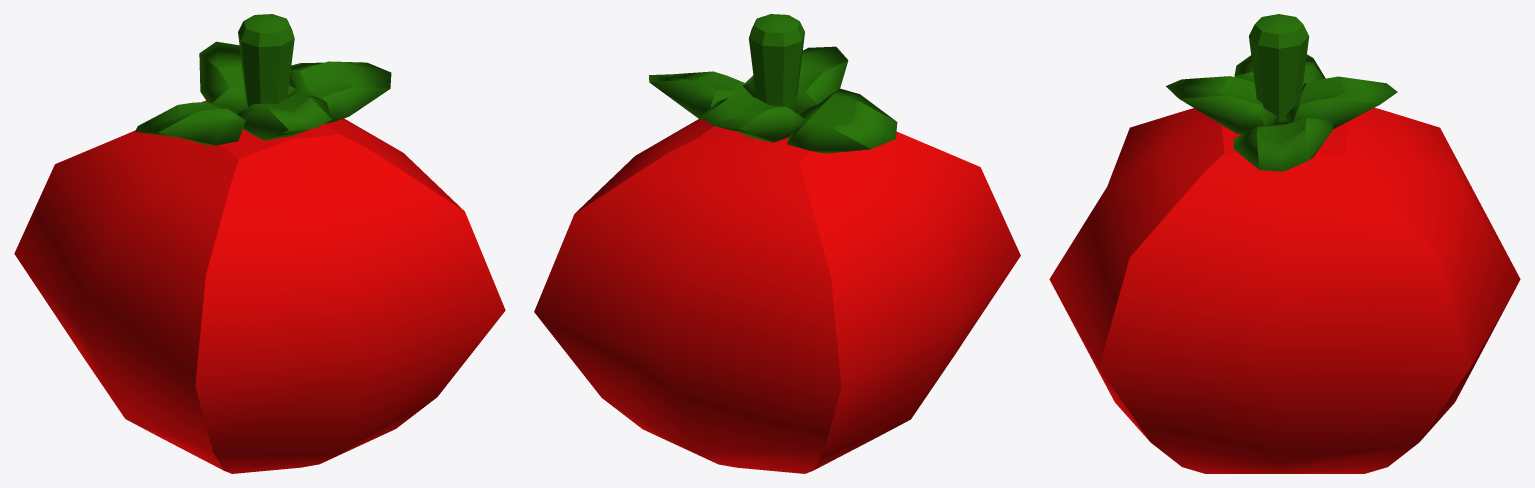
Rendered from Tomatoe.fbx.
The picture shows the model from 3 angles, left to right: view 1: azimuth 30°, elevation 25°; view 2: azimuth 150°, elevation 25°; view 3: azimuth 270°, elevation 25°; orthographic projection. The views are drawn at different scales.
Parts seen in each view (by area): view 1: pCube37; view 2: pCube37; view 3: pCube37.
Part boxes in pixels (x1,y1,x2,y2): pCube37: (14,14,505,473); pCube37: (534,14,1020,473); pCube37: (1049,14,1520,473).
Size of the model in its own units: 1.84 by 1.99 by 1.96.
